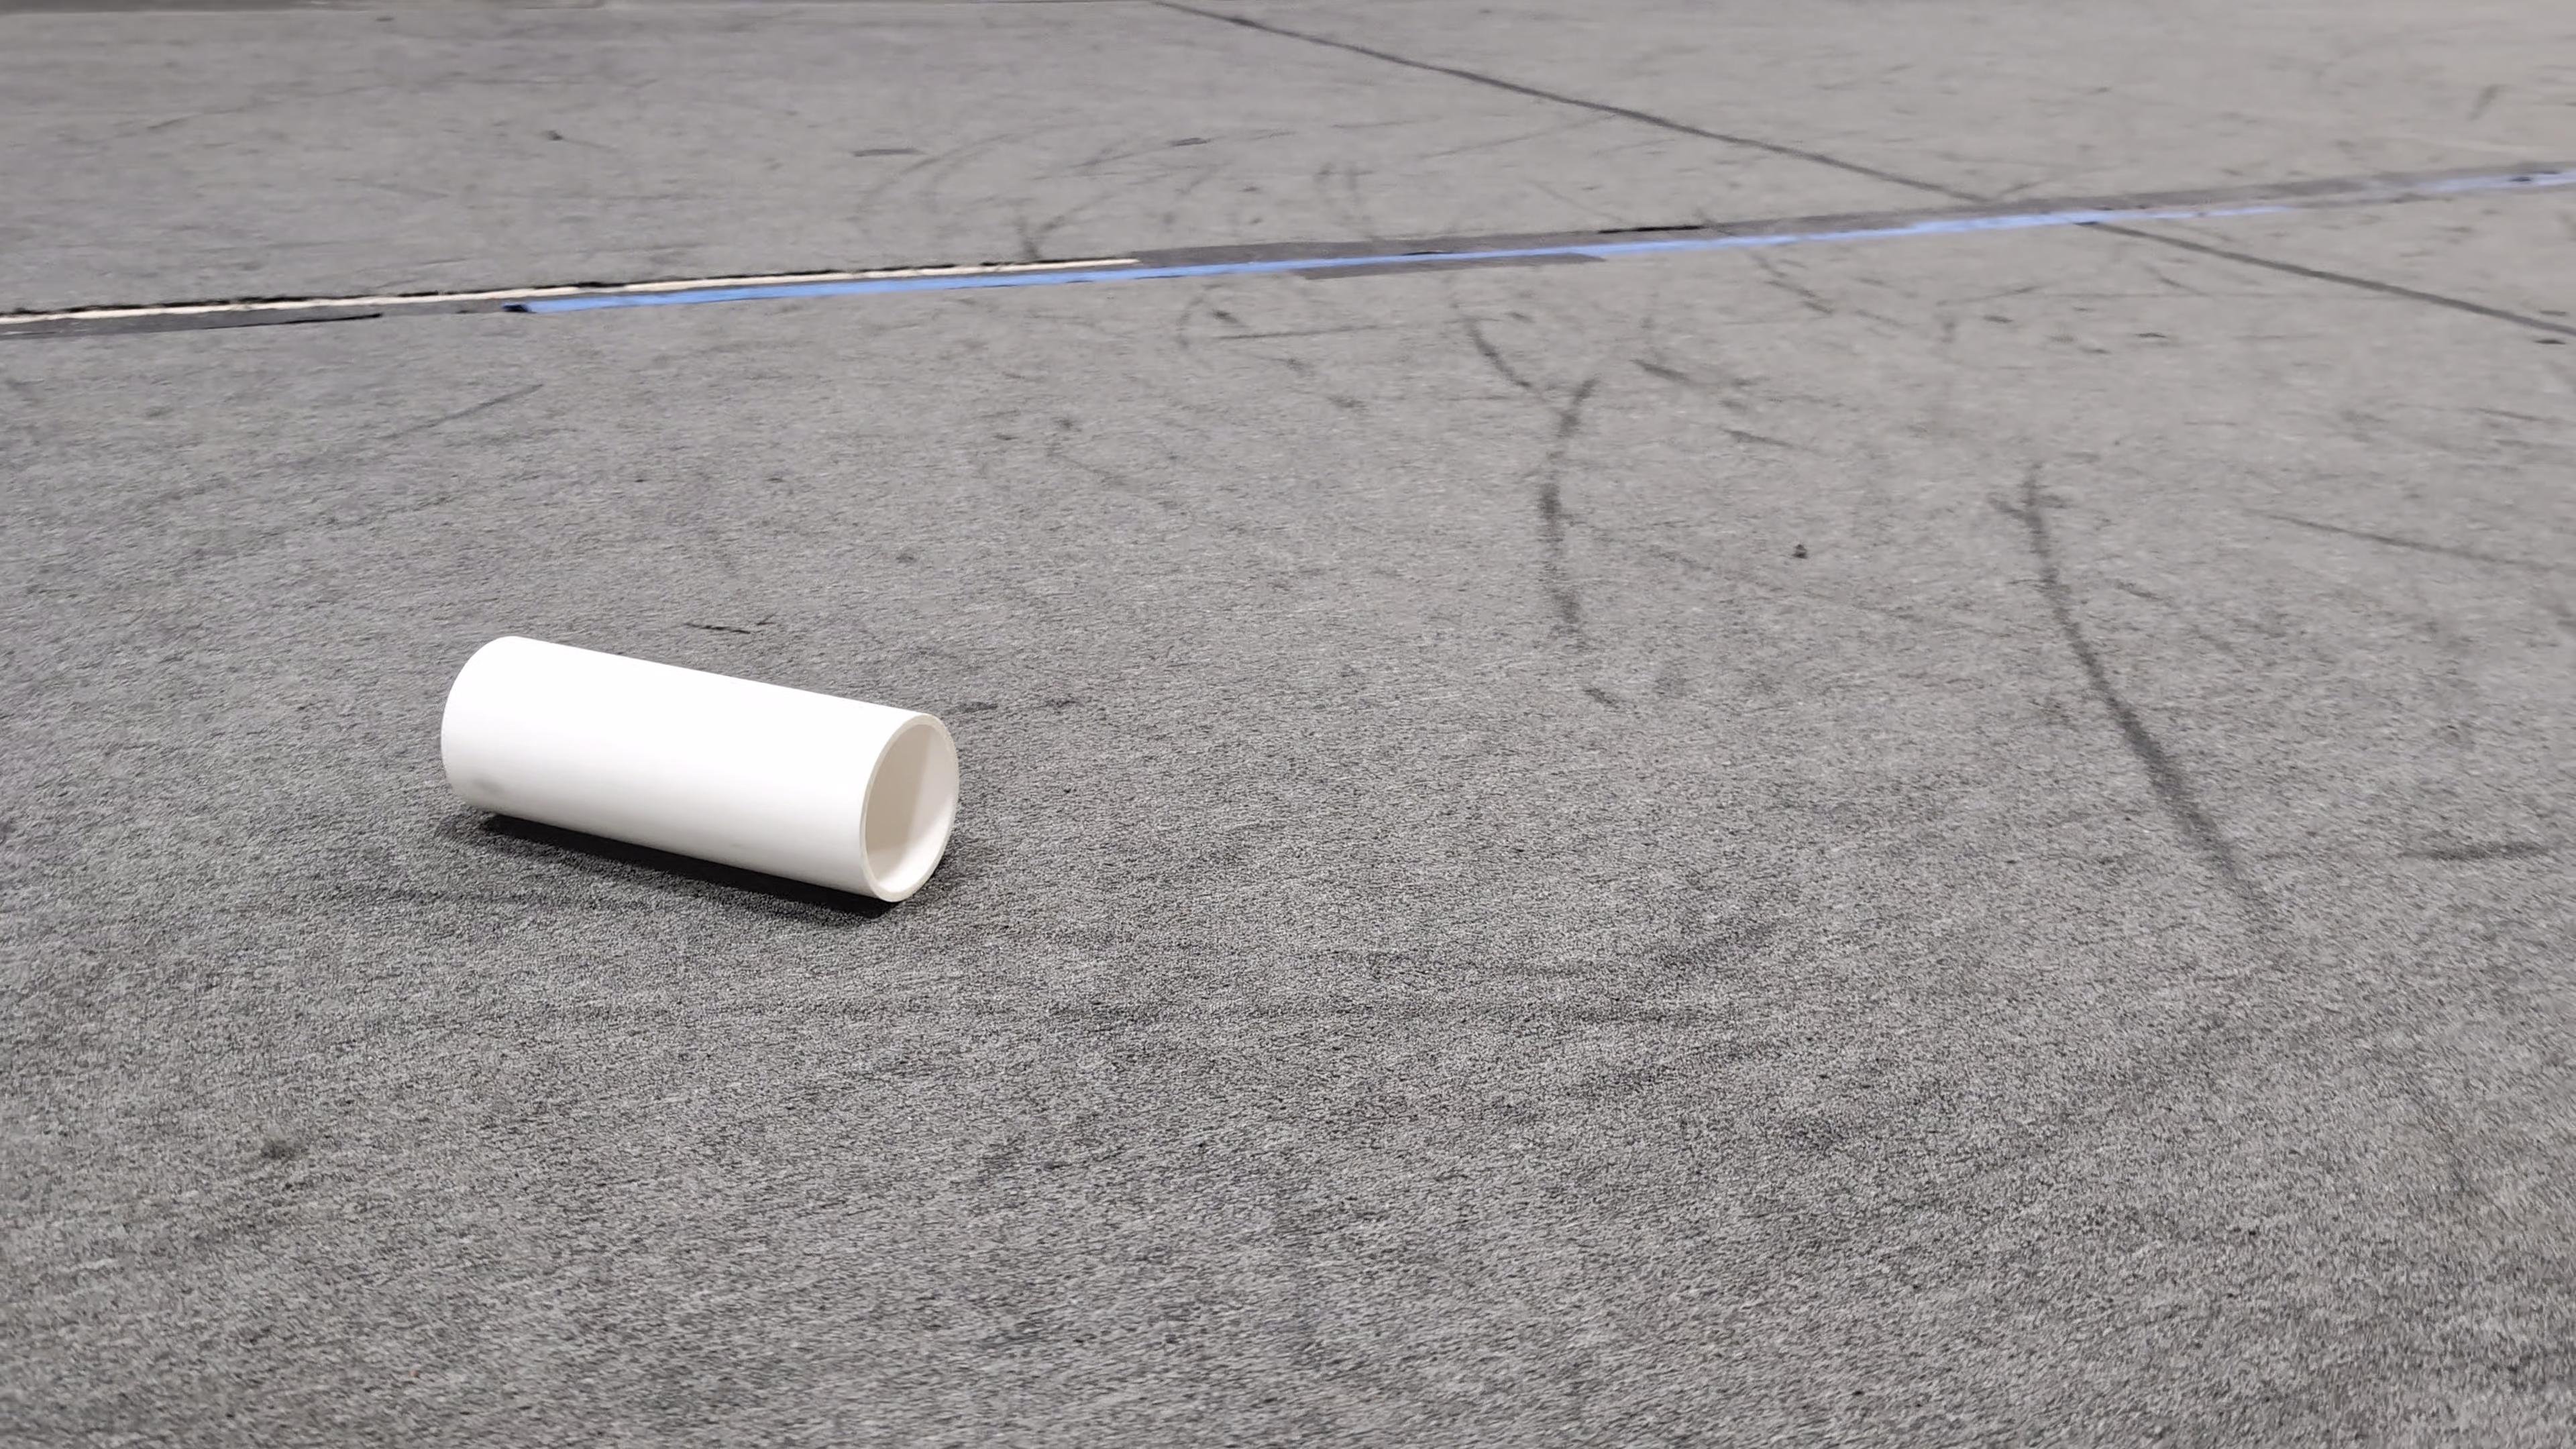coral: (439, 632, 959, 902)
